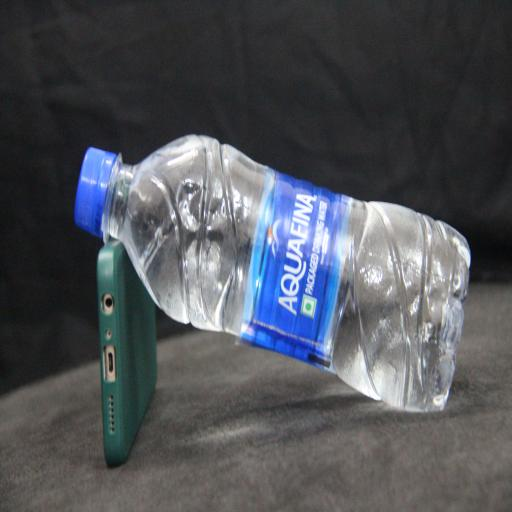Aquafina: (65, 122, 481, 424)
